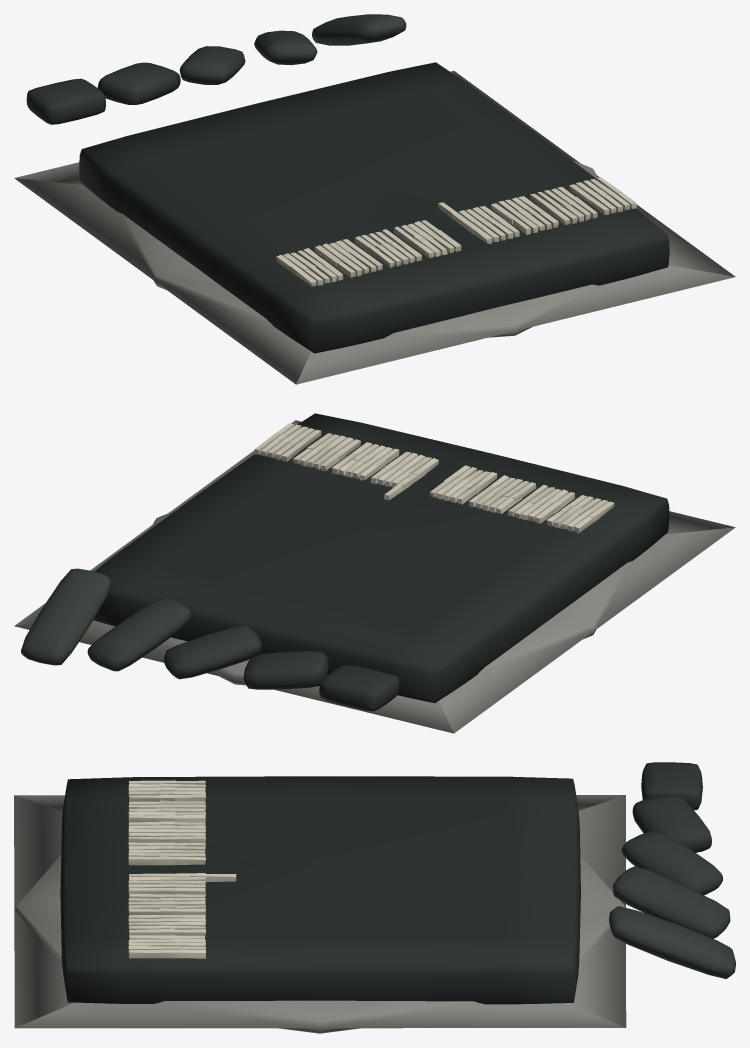
Rendered from tally_slab_b.glb.
3 views of the same model, one above another, from view 1: azimuth 30°, elevation 25°; view 2: azimuth 150°, elevation 25°; view 3: azimuth 270°, elevation 25° (orthographic). The views are drawn at different scales.
Visible parts, largest first — view 1: Surface; view 2: Surface; view 3: Surface.
Part boxes in pixels (left/top/right/bottom): Surface: left=14, top=14, right=735, bottom=384; Surface: left=14, top=413, right=735, bottom=733; Surface: left=14, top=762, right=735, bottom=1033.
Bounding box in the file's own units: 1.8 × 0.3085 × 2.36.
